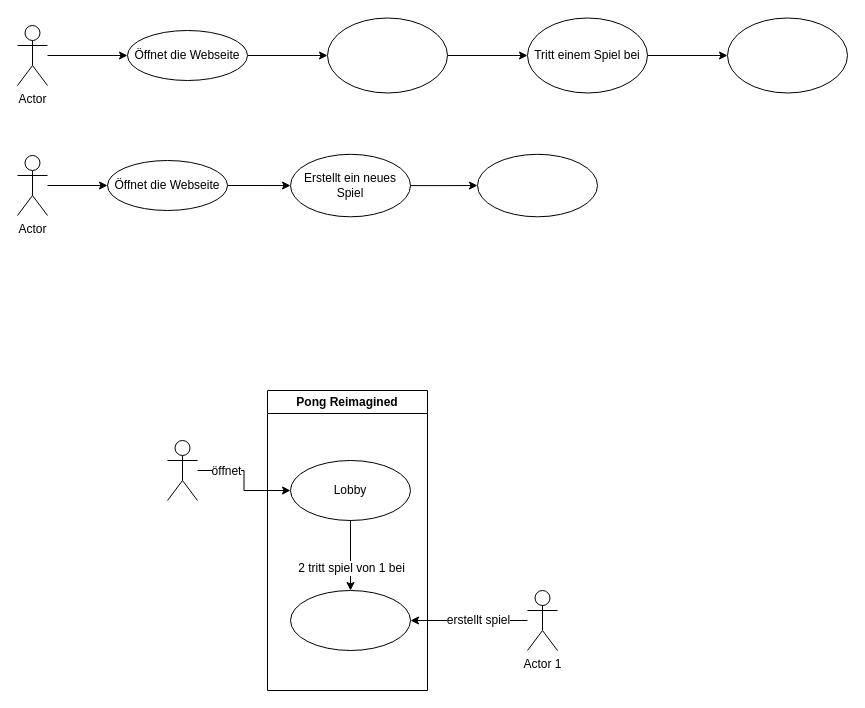
Image size: 865x708. Some labels were removed from this diagram. The shapes that lost their labels are listed below. From the top down, each one's centre as x and y in pixels, then its label:
At point (387, 55): "Nutzer sucht in der Lobby nach offenen Spielen".
At point (787, 55): "Spiel Pong Reimagined".
At point (537, 185): "Wartet auf Spieler".
At point (182, 470): "Actor 2".
At point (350, 620): "Pong".
